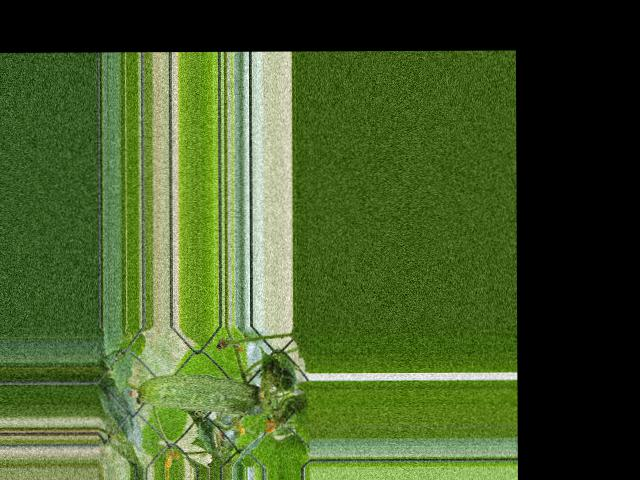cucumber: (130, 374, 270, 414)
